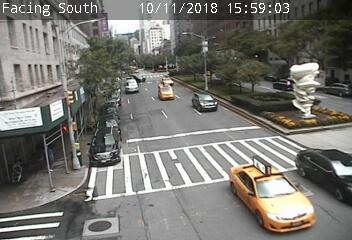car: (230, 164, 315, 231), (296, 149, 352, 205), (193, 92, 217, 111), (158, 84, 174, 99), (125, 79, 138, 93), (161, 78, 174, 86)
